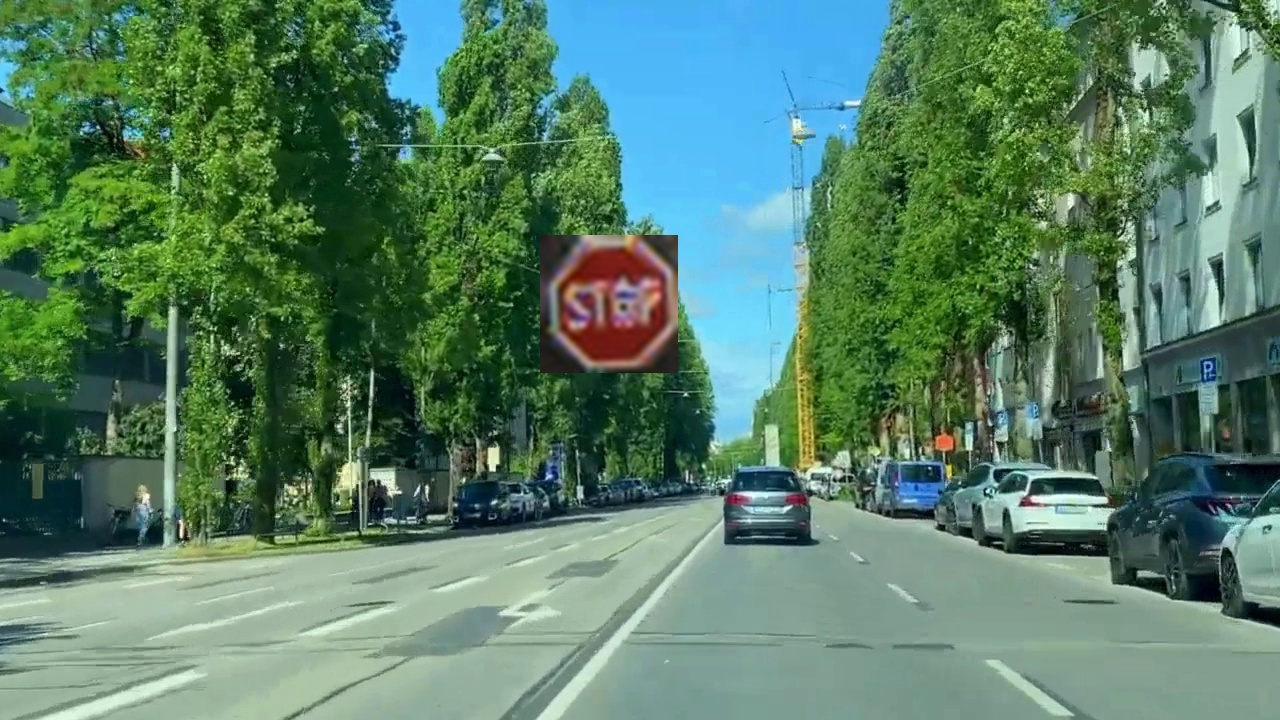Stop: (540, 235, 678, 373)
